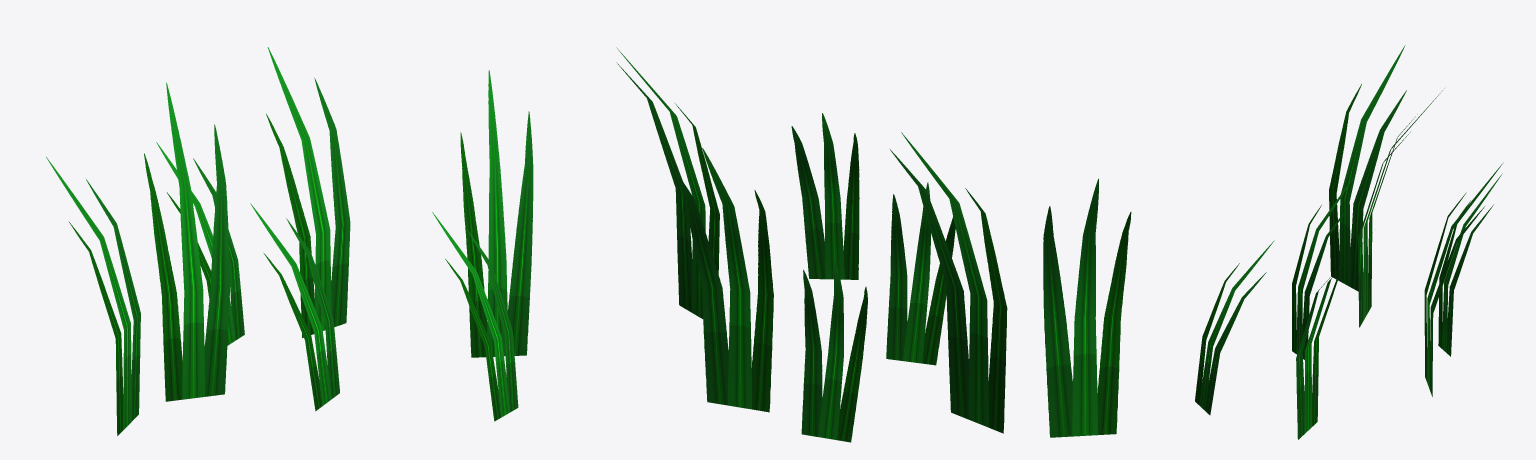
The model's file is Grass_06a.FBX.
The picture shows the model from 3 angles, left to right: view 1: azimuth 30°, elevation 25°; view 2: azimuth 150°, elevation 25°; view 3: azimuth 270°, elevation 25°; orthographic projection. The views are drawn at different scales.
Parts seen in each view (by area): view 1: Grass_06a; view 2: Grass_06a; view 3: Grass_06a.
Boxes of the visible parts, bbox=[...] form: Grass_06a: bbox=[46, 47, 533, 435]; Grass_06a: bbox=[616, 47, 1131, 442]; Grass_06a: bbox=[1195, 45, 1503, 439].
Bounding box in the file's own units: 20.11 × 11.2 × 13.24.
1 material, 1 textured.
